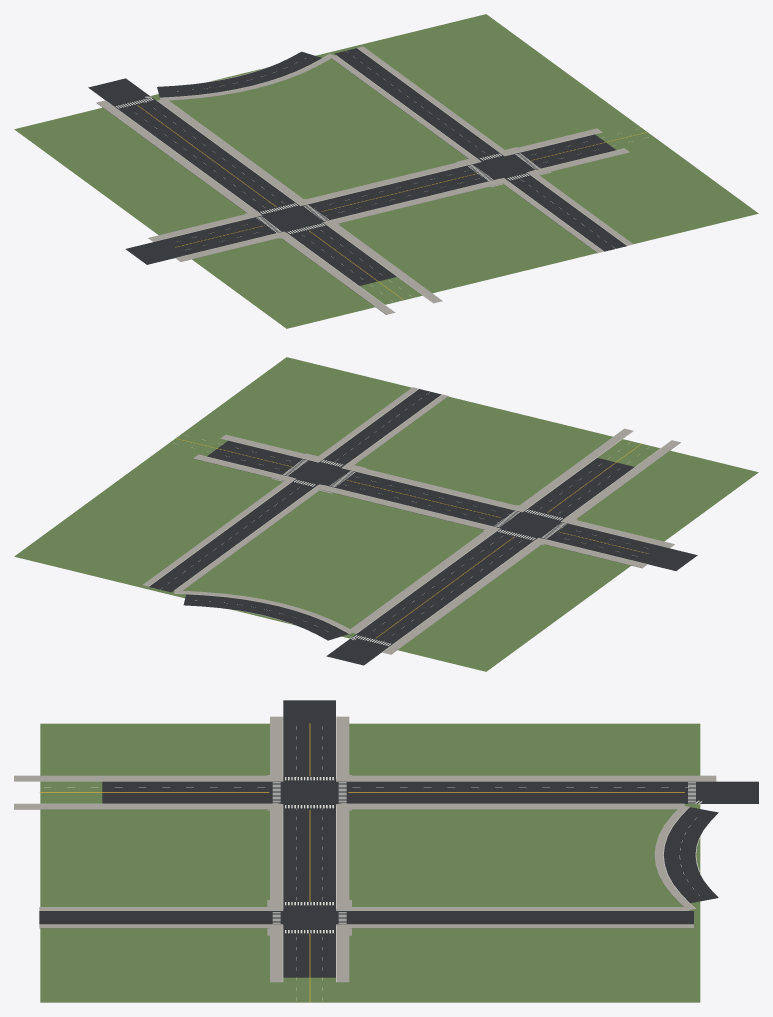
Rendered from Ground_1_5.fbx.
3 views of the same model, one above another, from view 1: azimuth 30°, elevation 25°; view 2: azimuth 150°, elevation 25°; view 3: azimuth 270°, elevation 25° (orthographic). The views are drawn at different scales.
Parts seen in each view (by area): view 1: Ground_1_5; view 2: Ground_1_5; view 3: Ground_1_5.
Boxes of the visible parts, bbox=[...] form: Ground_1_5: bbox=[14, 14, 758, 328]; Ground_1_5: bbox=[14, 357, 758, 671]; Ground_1_5: bbox=[14, 700, 758, 1002].
Size of the model in its own units: 271 by 0.14 by 282.
